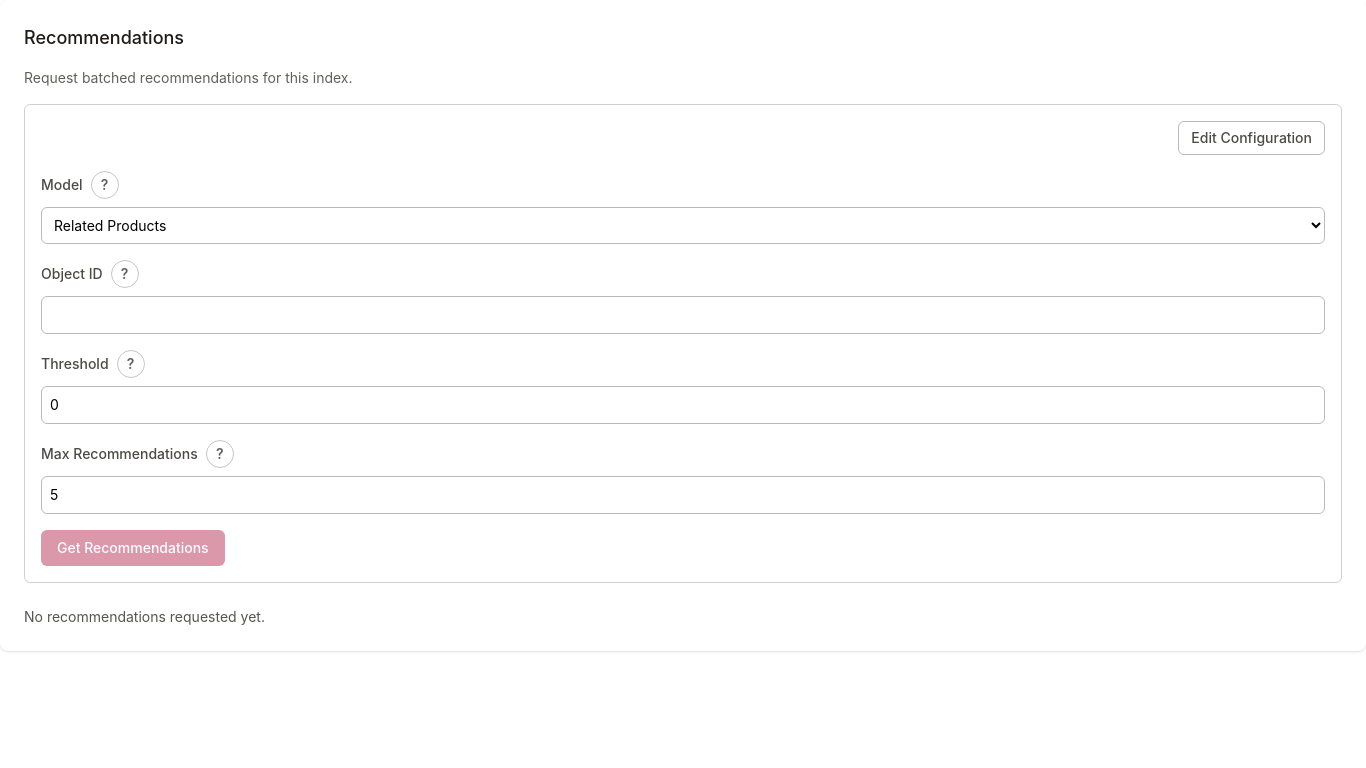
Test: RecommendationsTab › disables submit when model requirements are missing and enables when present
Expected: the button "Get Recommendations" is disabled, x1=41 y1=530 x2=225 y2=566
Type "sku-1" into the field labelled "Object ID".
click(683, 315); type("sku-1")  # box x1=41 y1=296 x2=1325 y2=334
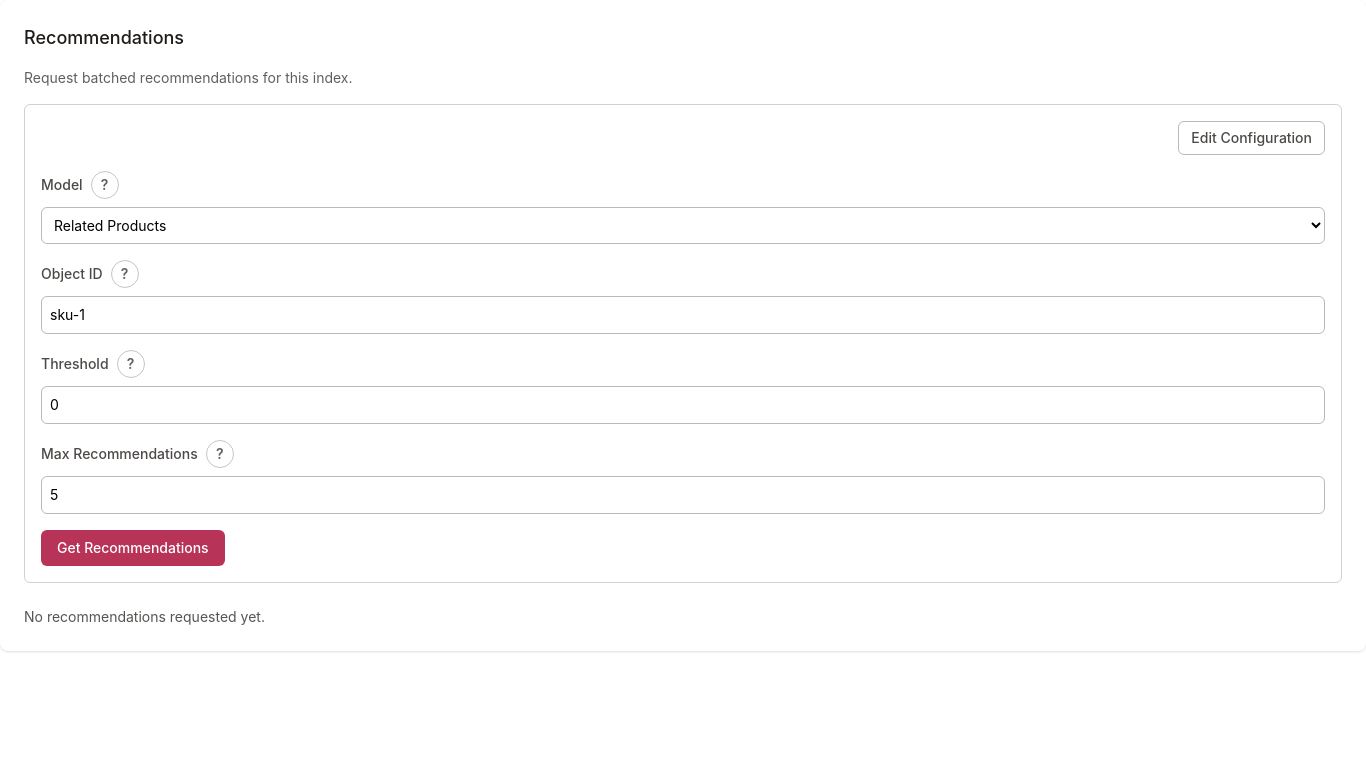
Result: the button "Get Recommendations" is enabled at x1=41 y1=530 x2=225 y2=566
Select "Trending Facets" in the dropdown with test id "recommendations-model-select" at (683, 226), box x1=41 y1=207 x2=1325 y2=244
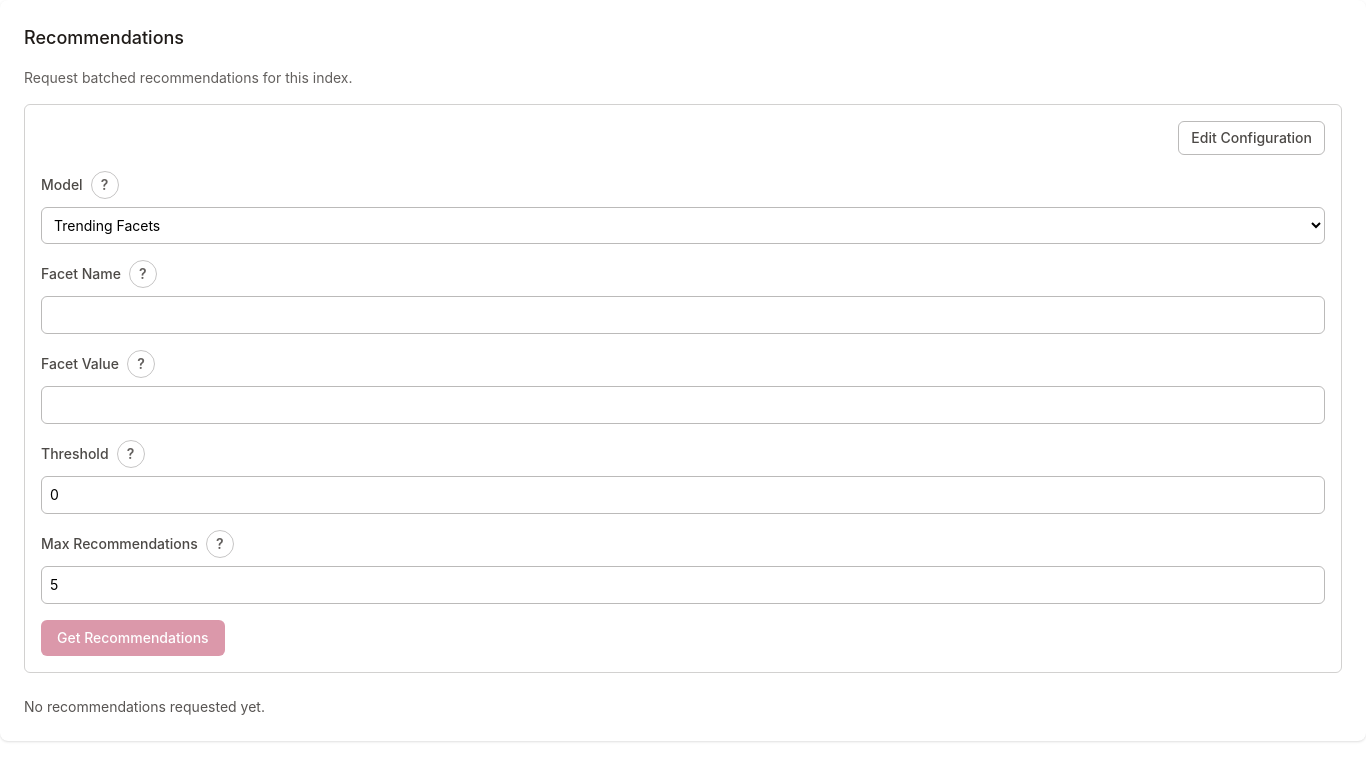
Result: the button "Get Recommendations" is disabled at x1=41 y1=620 x2=225 y2=656
Type "brand" into the field labelled "Facet Name".
click(683, 315); type("brand")  # box x1=41 y1=296 x2=1325 y2=334
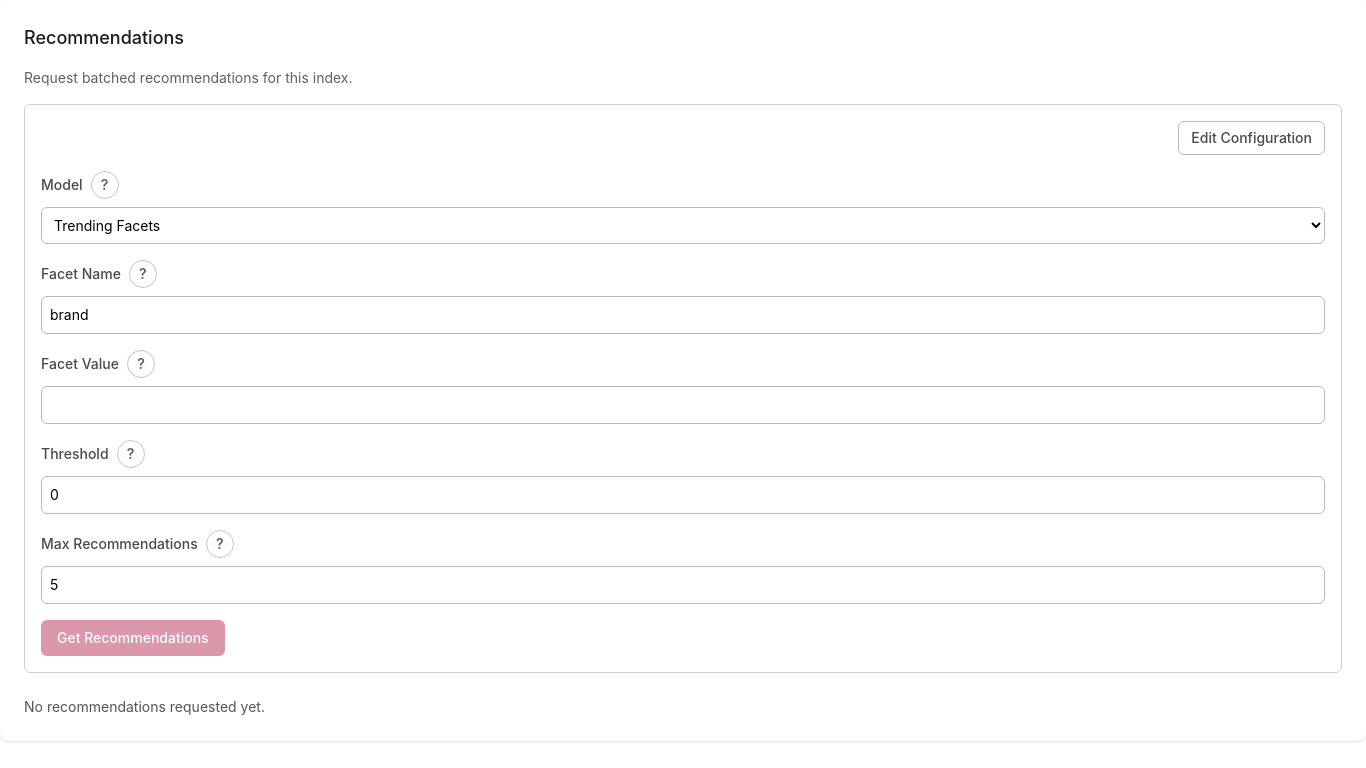
Result: the button "Get Recommendations" is disabled at x1=41 y1=620 x2=225 y2=656
Type "Nike" into the field labelled "Facet Value".
click(683, 405); type("Nike")  # box x1=41 y1=386 x2=1325 y2=424
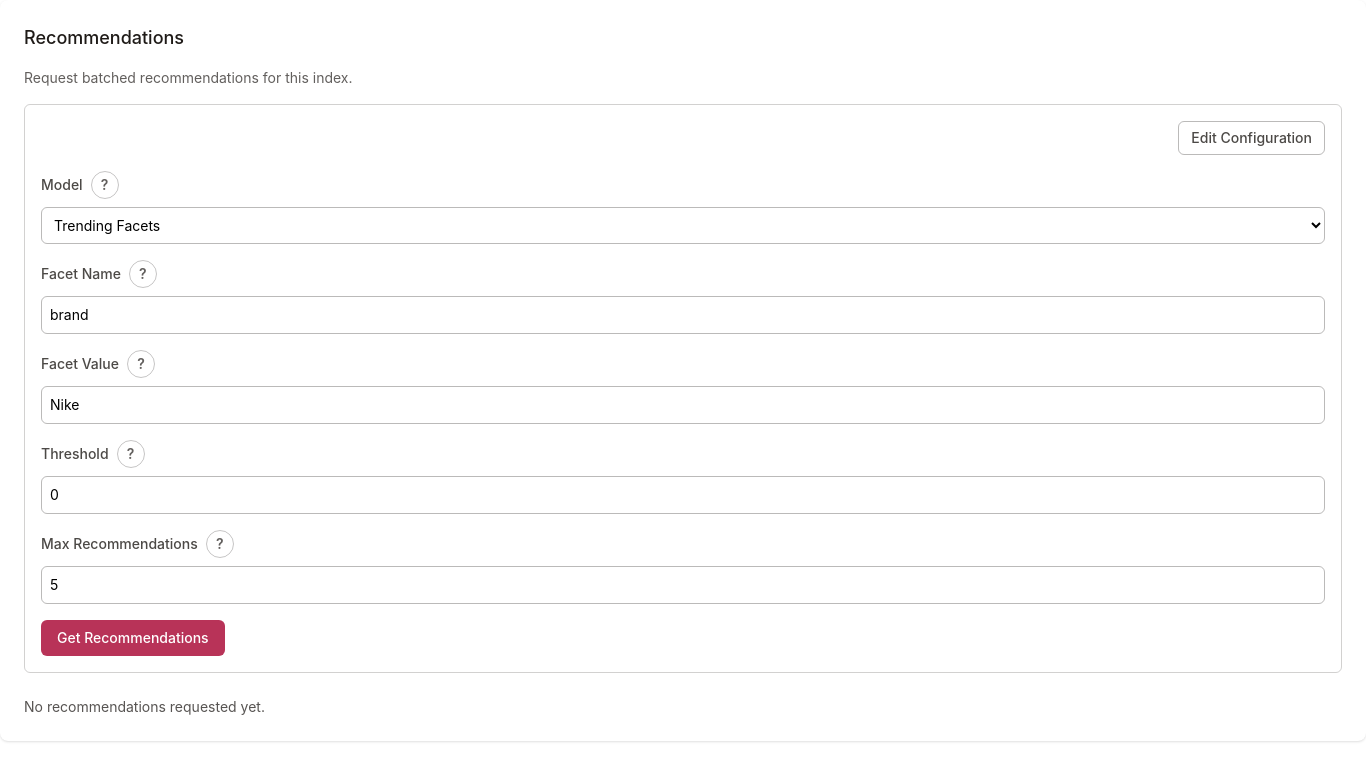
Result: the button "Get Recommendations" is enabled at x1=41 y1=620 x2=225 y2=656
